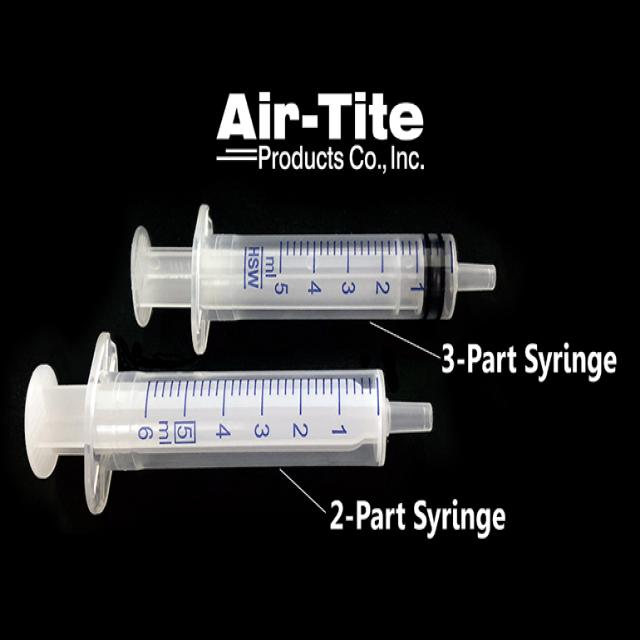syringe: (22, 329, 434, 515), (128, 201, 497, 355)
